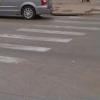Crosswalk: (5, 19, 94, 69)
